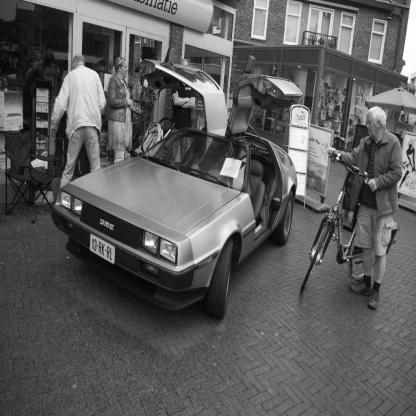car: (53, 112, 312, 322)
